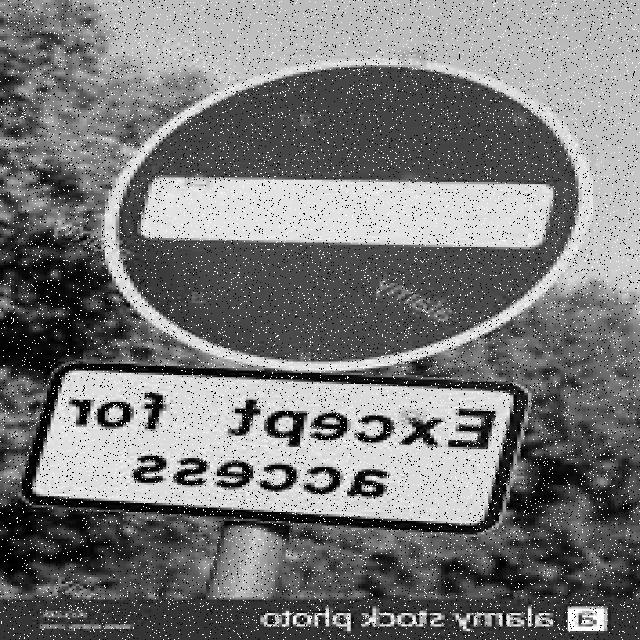no entry: (120, 65, 578, 359)
